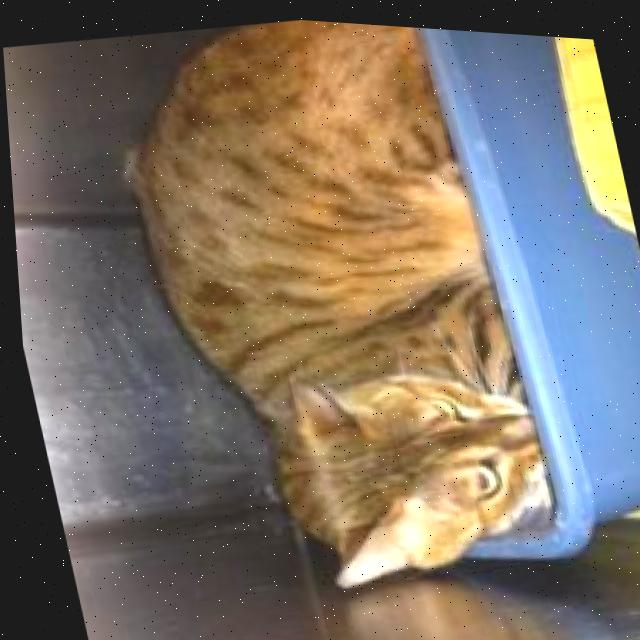Bengal: (85, 4, 580, 621)
